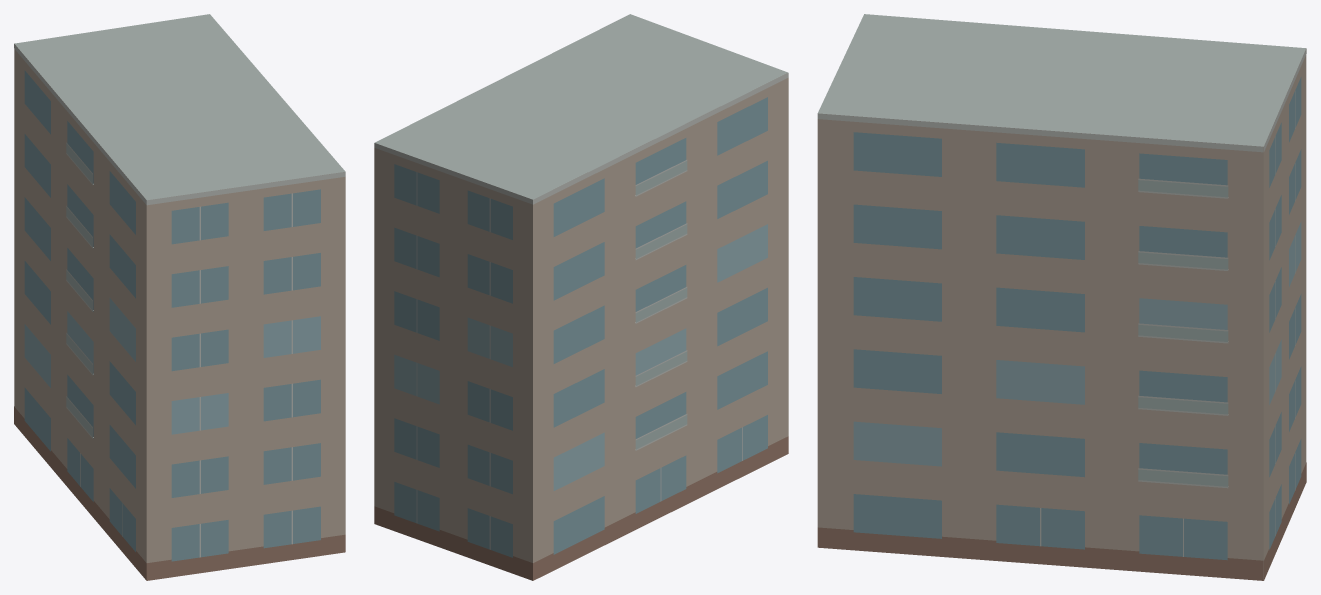
The model's file is survey-upis-32868615.glb.
3 views of the same model, side by side, from view 1: azimuth 30°, elevation 25°; view 2: azimuth 150°, elevation 25°; view 3: azimuth 270°, elevation 25° (orthographic). The views are drawn at different scales.
Parts seen in each view (by area): view 1: survey-upis-32868615.tmp; view 2: survey-upis-32868615.tmp; view 3: survey-upis-32868615.tmp.
Part boxes in pixels (x1,y1,x2,y2): survey-upis-32868615.tmp: [14, 14, 345, 580]; survey-upis-32868615.tmp: [374, 14, 788, 580]; survey-upis-32868615.tmp: [817, 14, 1306, 580].
Bounding box in the file's own units: 12.26 × 18.7 × 19.09.
